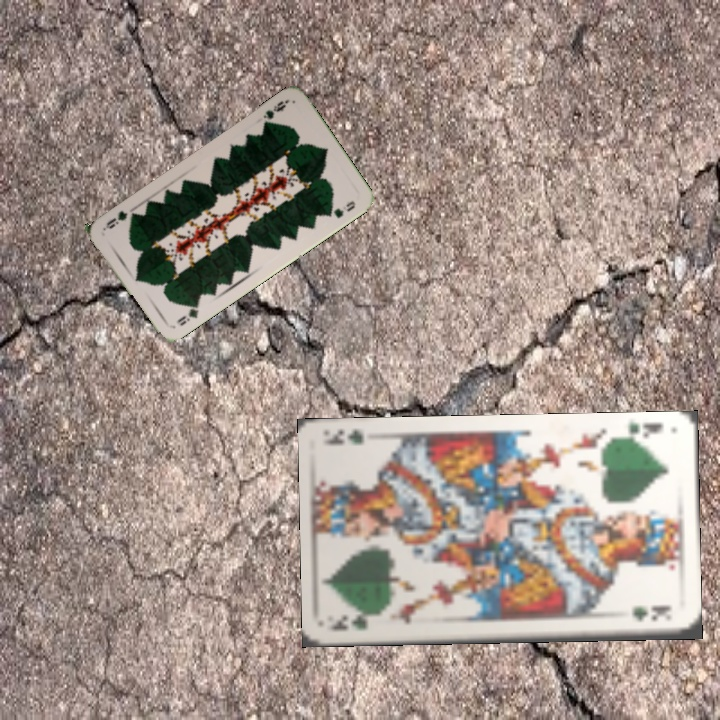G9: (173, 299, 201, 328), (259, 97, 288, 122)
GK: (613, 418, 666, 446), (326, 610, 384, 632)
